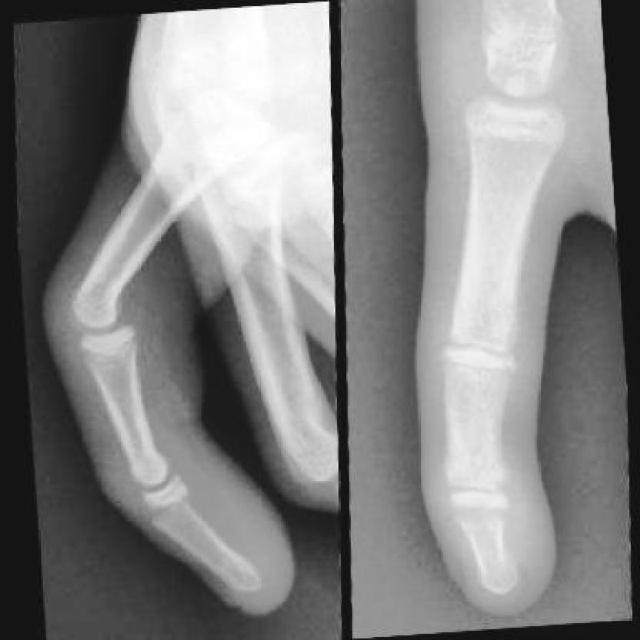Fracture: (136, 477, 193, 533), (440, 489, 509, 534)
